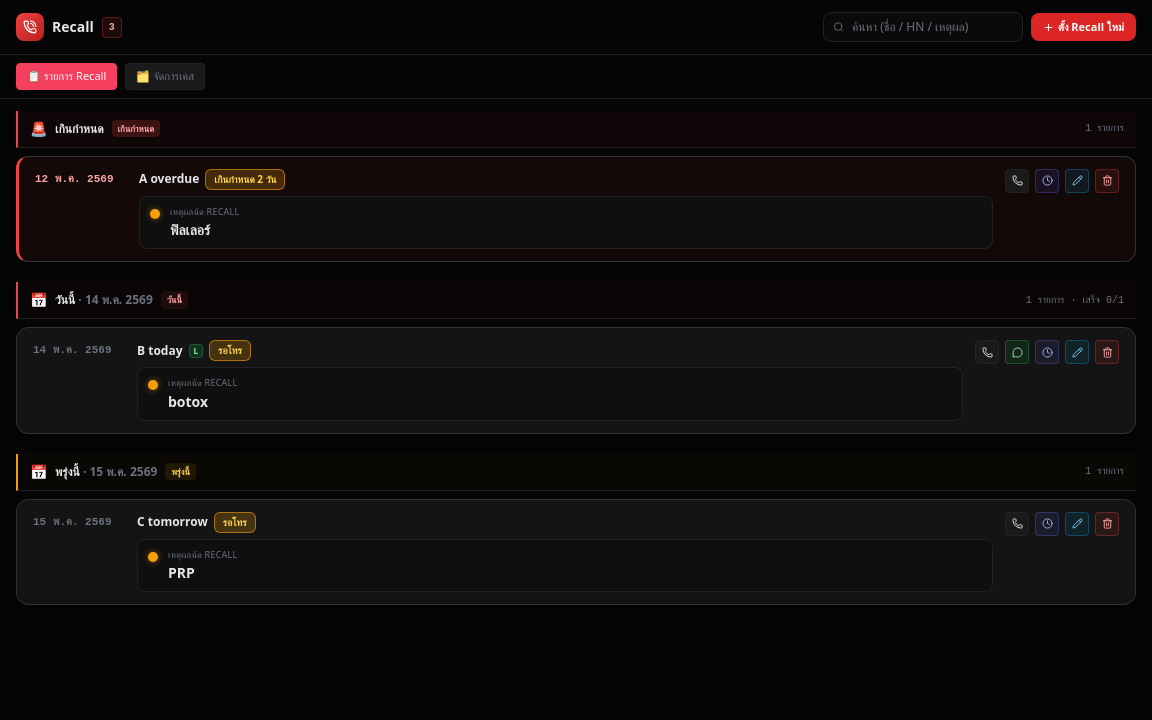
Phase 29 · T3 create flow › T3.2 close create modal hides it
Click the button with test id "recall-header-create": x=1084, y=27 [1031,13,1136,41]
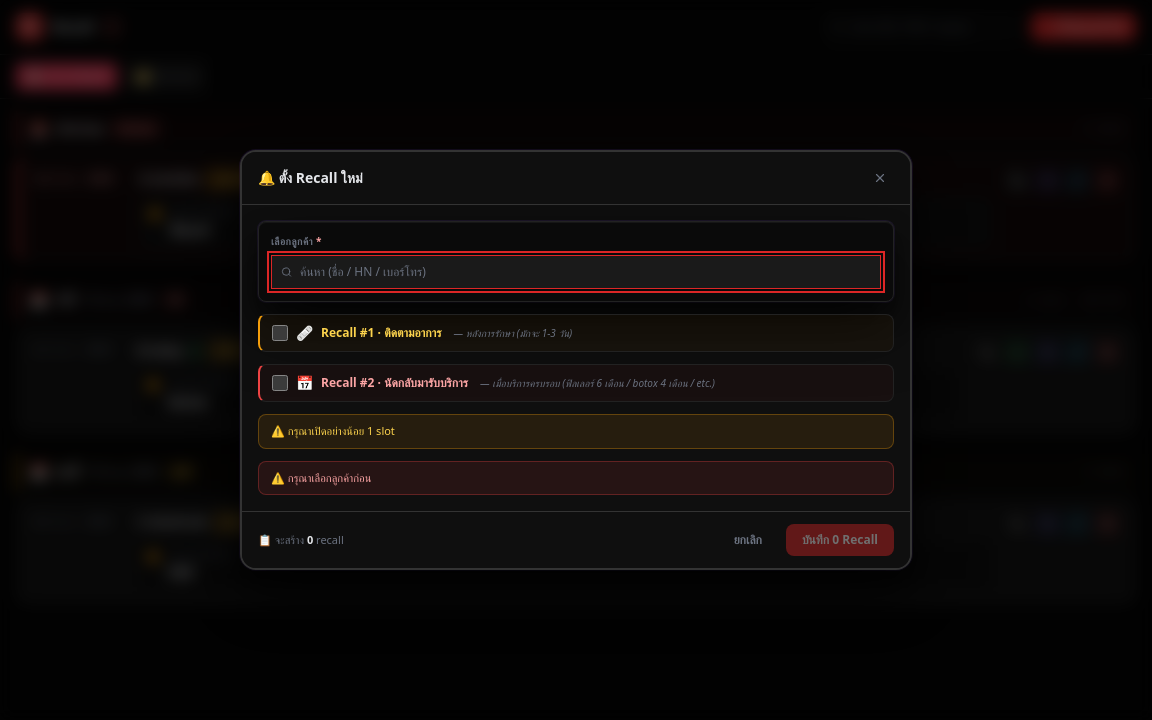
Expected: the element with test id "recall-create-modal" is shown
Click the button with test id "recall-create-close": x=880, y=178 [866,164,894,192]
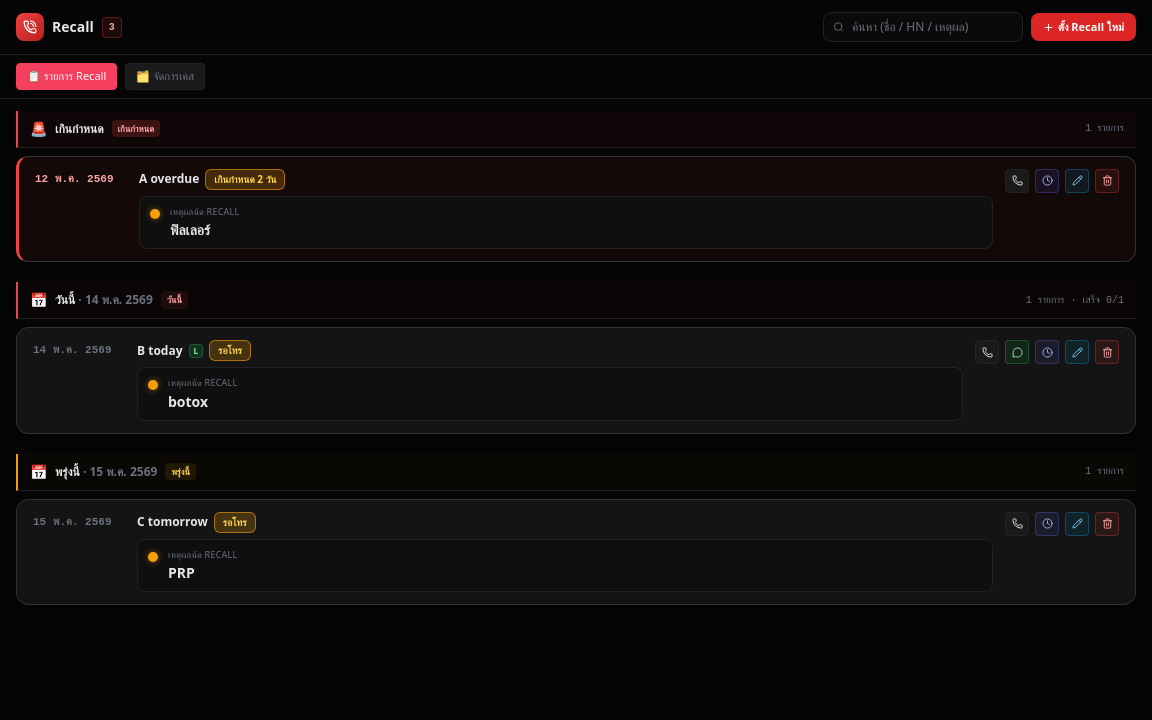
Expected: the element with test id "recall-create-modal" is gone
